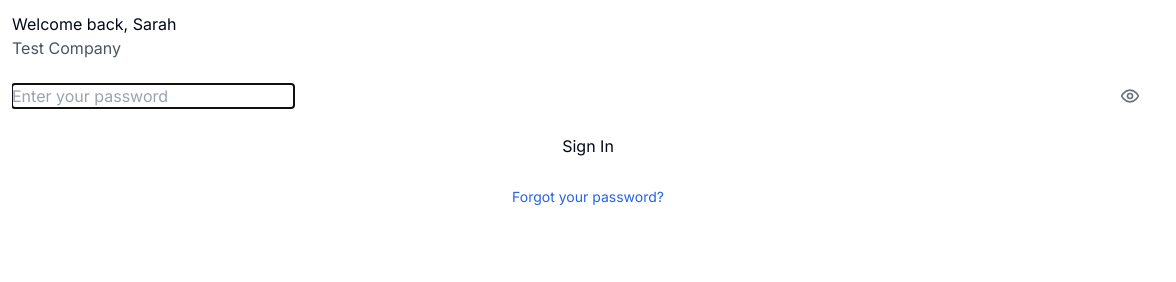
LoginForm › error handling › should display lockout error for 429 response
Type "WrongPassword" into the password field with placeholder "Enter your password" at coordinates (153, 96), box [12, 84, 294, 108]
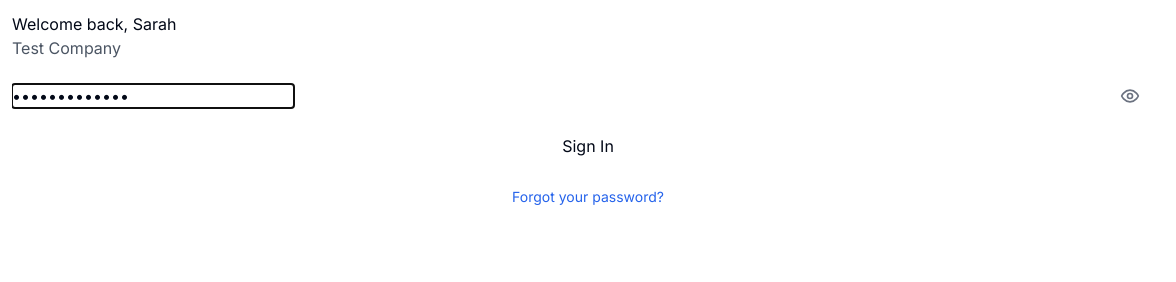
Click the button "Sign In" at coordinates (588, 146), box [12, 124, 1164, 168]
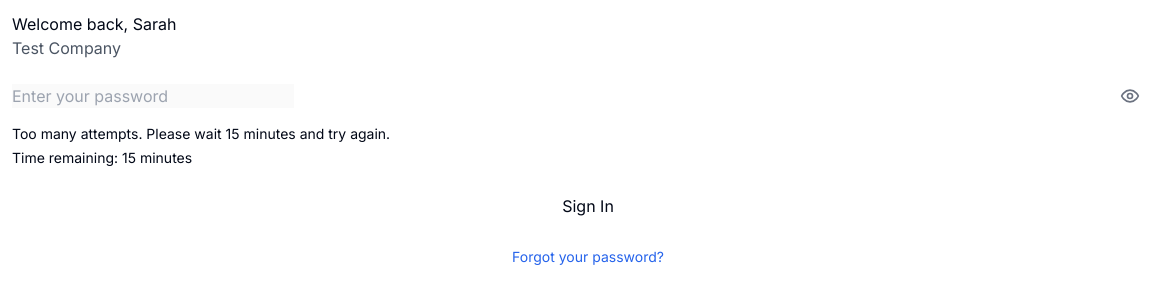
Expected: the message with test id "login-error" shows "Too many attempts. Please wait 15 minutes and try again.", [12, 125, 390, 142]
